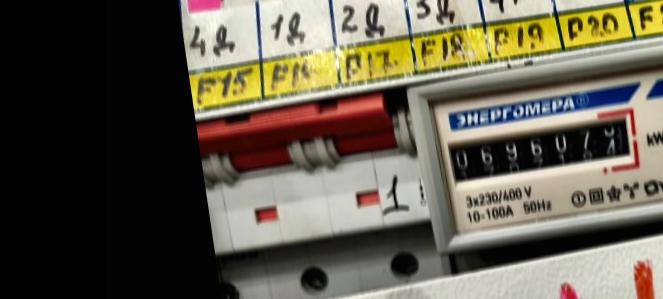0: (550, 129, 568, 153), (452, 147, 469, 169)
4: (602, 135, 618, 158)
6: (476, 142, 493, 165), (526, 135, 543, 157)
7: (575, 127, 593, 150)
9: (501, 139, 517, 161)
screen: (433, 104, 645, 193)
